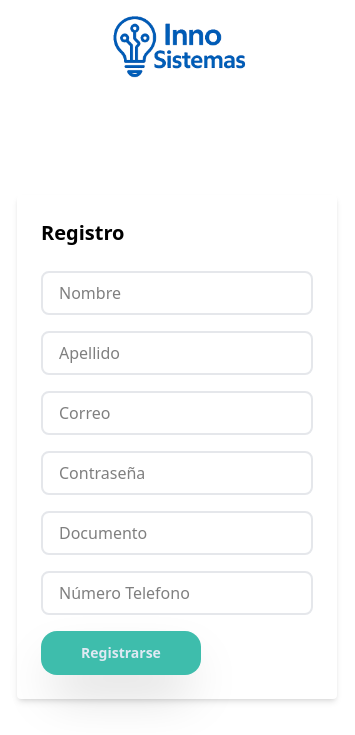
Test: RegisterOrg › handleSubmit muestra notificación de error si el registro falla
This screenshot has width=355, height=735.
Step 1. Type "nuevo" into the field with placeholder "Nombre" → [177, 293], box [41,271,313,315]
Step 2. Type "apellido" into the field with placeholder "Apellido" → [177, 353], box [41,331,313,375]
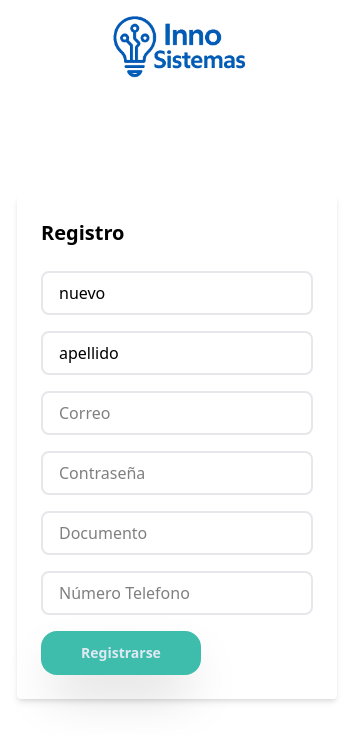
Step 3. Type "nuevo@mail.com" into the field with placeholder "Correo" → [177, 413], box [41,391,313,435]
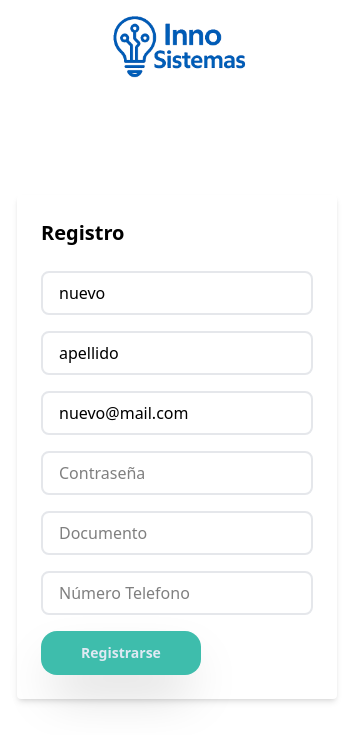
Step 4. Type "clave" into the password field with placeholder "Contraseña" → [177, 473], box [41,451,313,495]
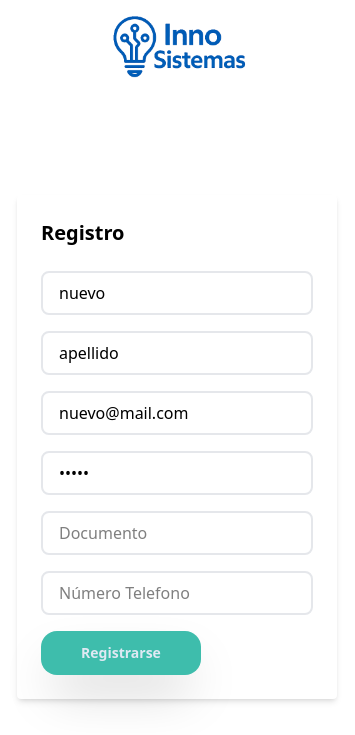
Step 5. Type "123456" into the field with placeholder "Documento" → [177, 533], box [41,511,313,555]
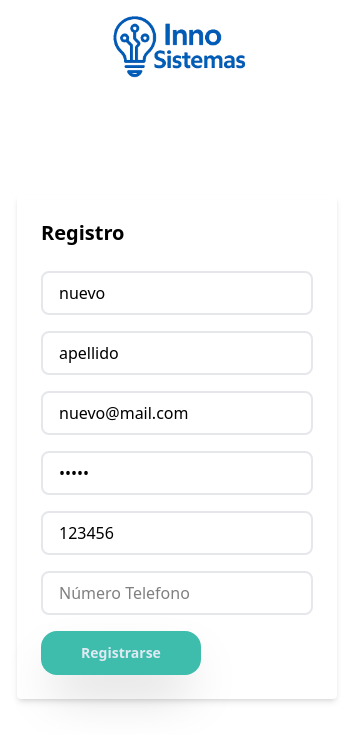
Step 6. Type "5555555" into the field with placeholder "Número Telefono" → [177, 593], box [41,571,313,615]
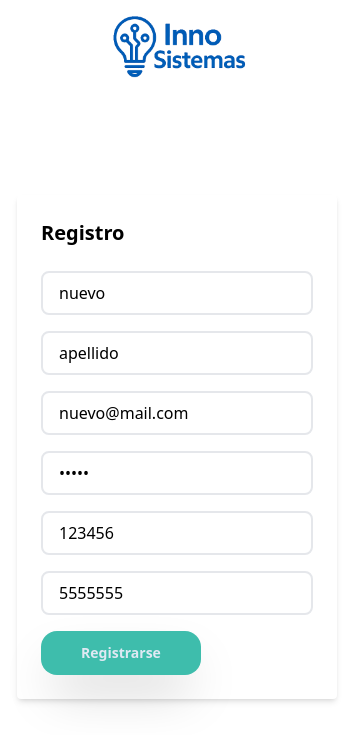
Step 7. Click the button "Registrarse" → [121, 653], box [41,631,201,675]
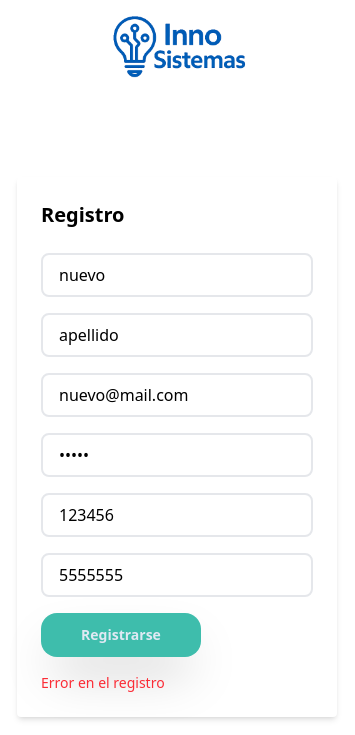
expect the text "Error en el registro" is shown: met, box [41,673,165,692]
